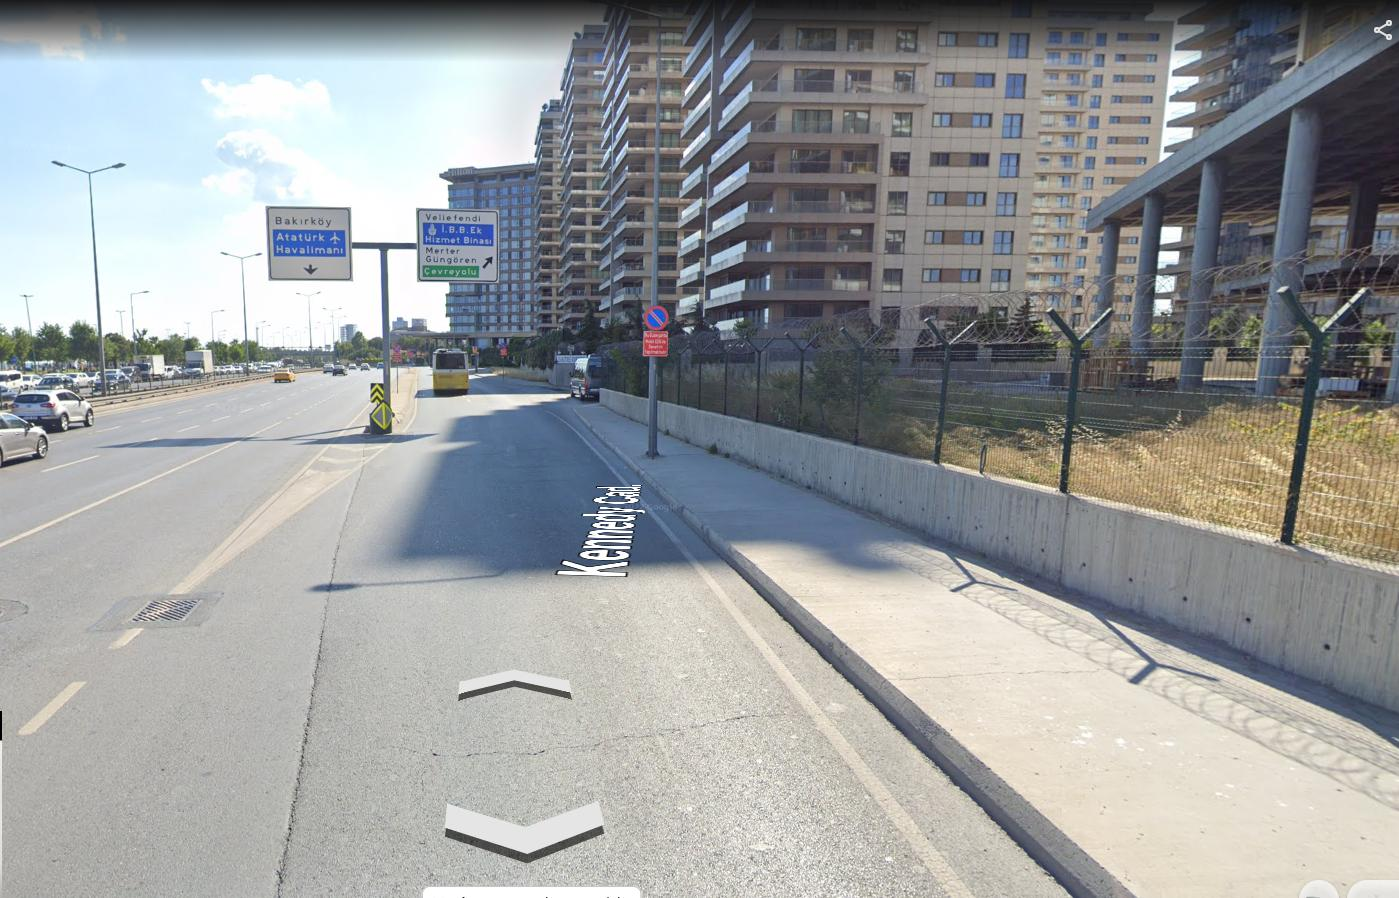nopark: (646, 305, 669, 331)
